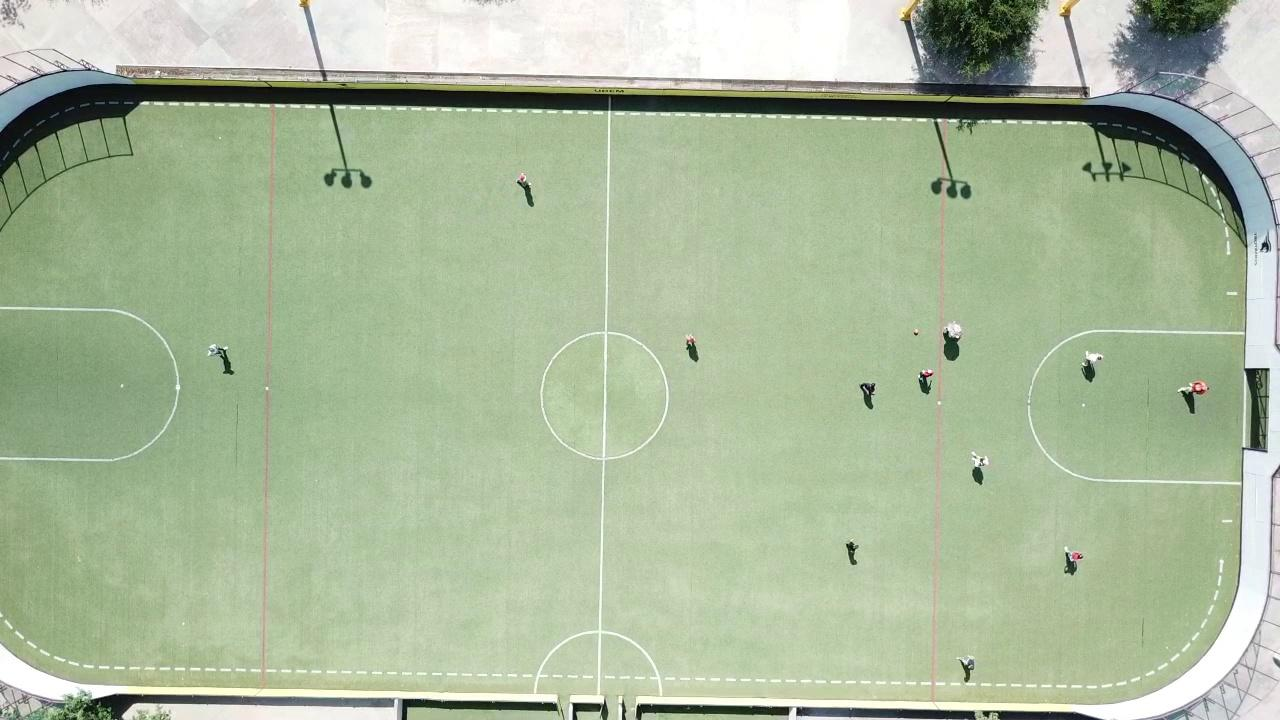ball: (914, 329, 920, 335)
player: (1083, 351, 1106, 375), (1180, 378, 1210, 394), (943, 321, 963, 341), (971, 451, 989, 468), (1064, 547, 1083, 563), (516, 172, 531, 191), (207, 344, 228, 357), (958, 655, 975, 670), (860, 383, 876, 396), (846, 541, 859, 554), (920, 369, 935, 380), (685, 334, 696, 347)
